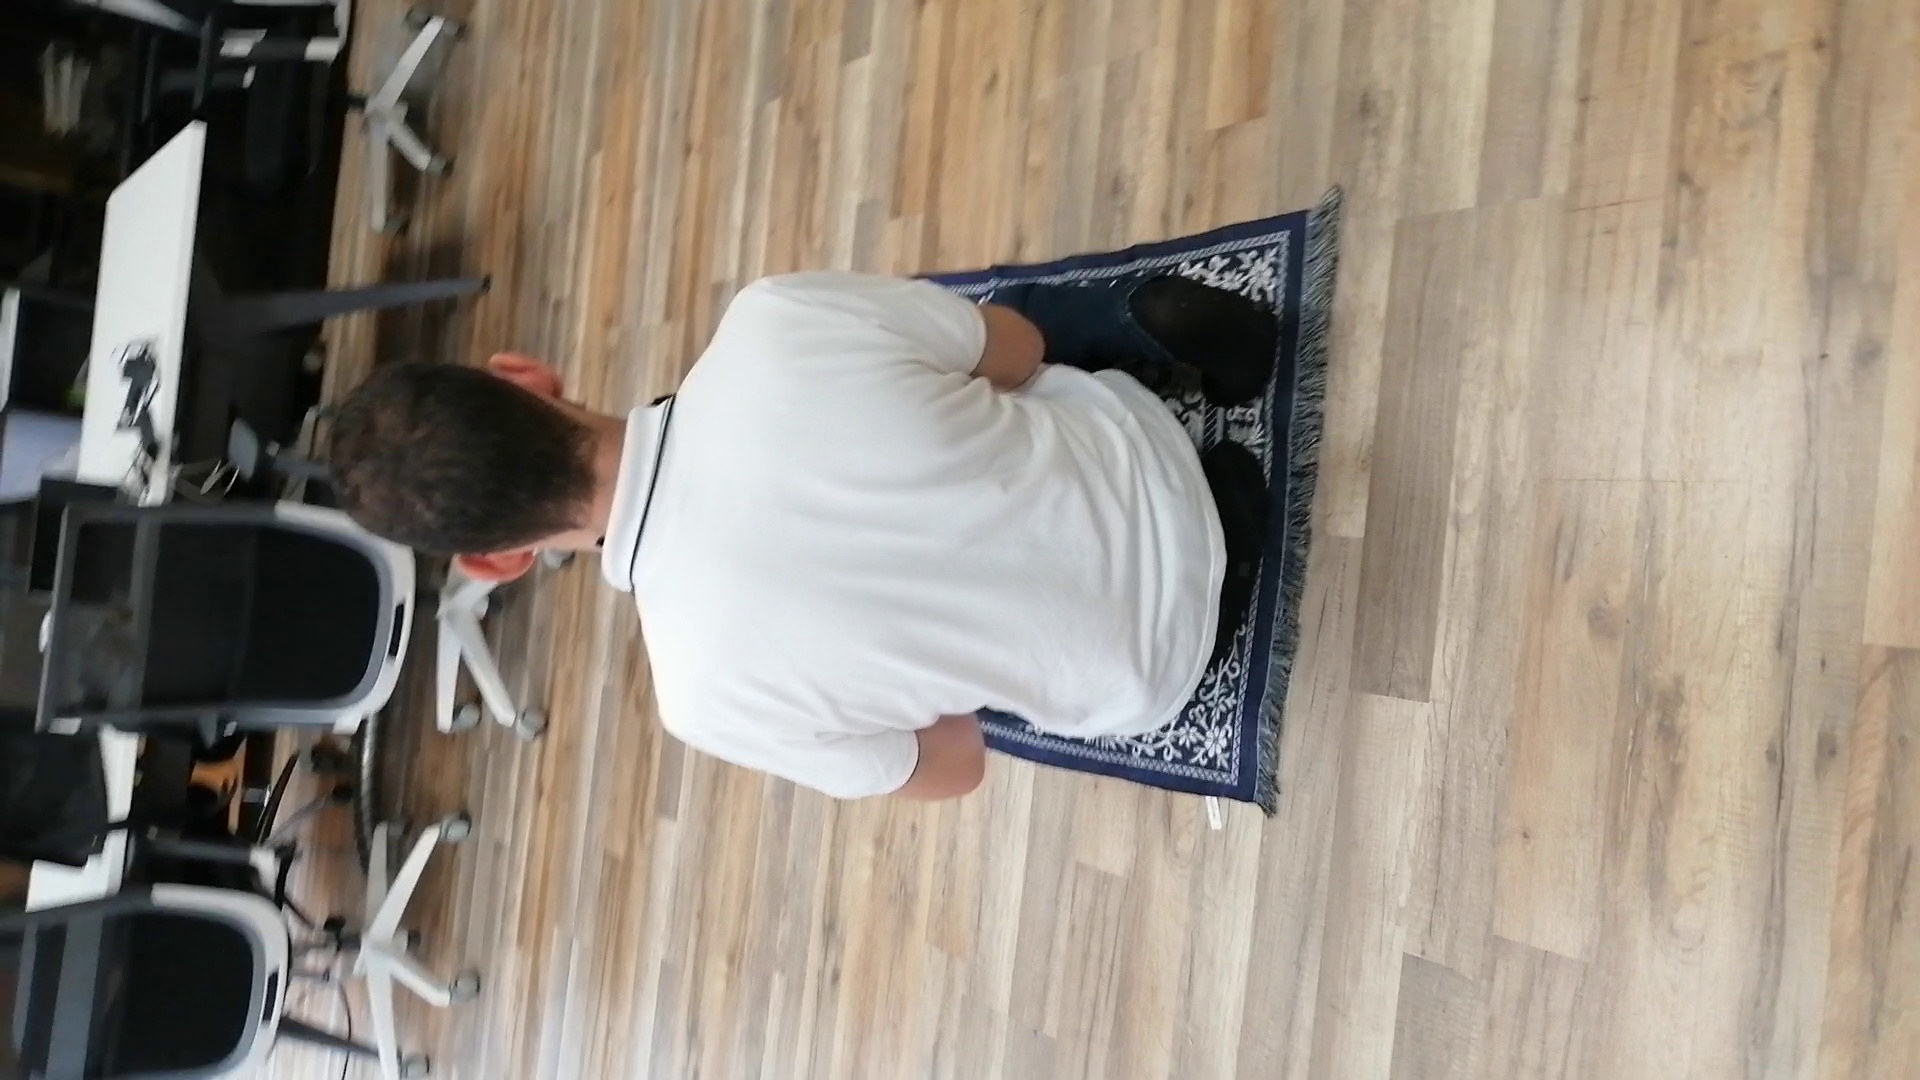sitting: (313, 257, 1280, 808)
